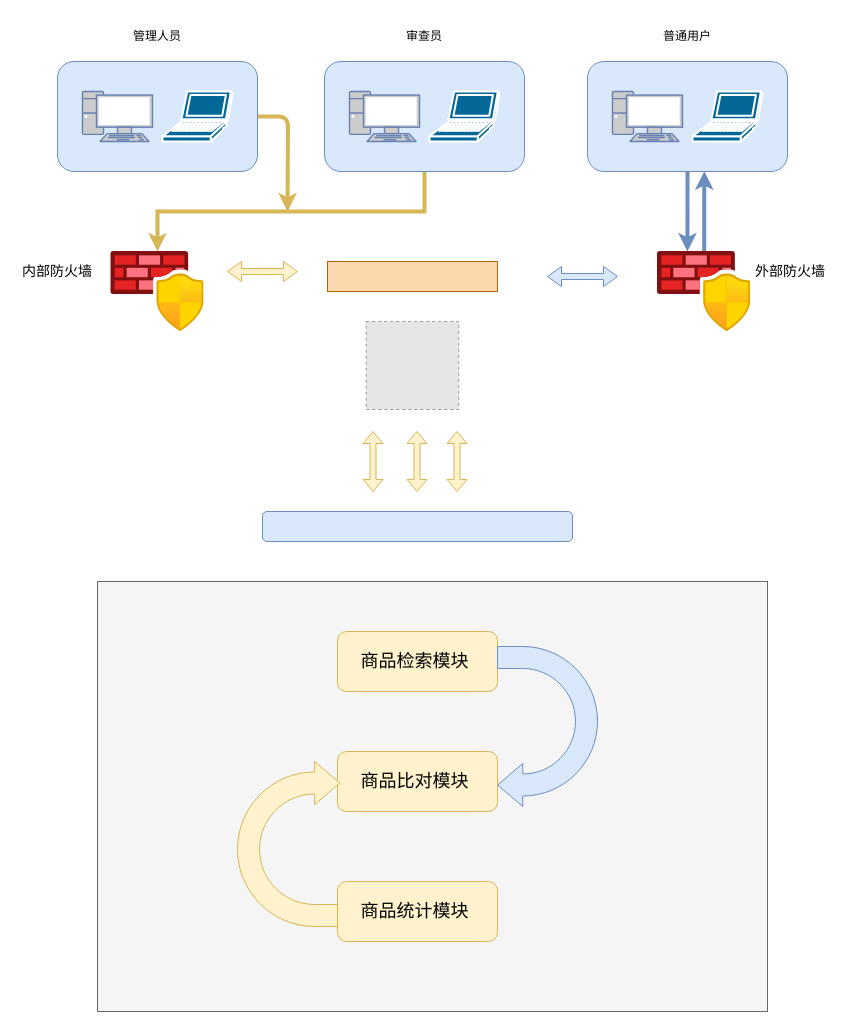
The diagram is 848 pixels wide and 1029 high, and some of its shapes have lost their labels. Grey dashed boxes stand in for pictures. Each missing label, with the centre of its shape:
"商品检索比对系统" belongs at point 417,526.
"数据交换中心" belongs at point 412,276.
